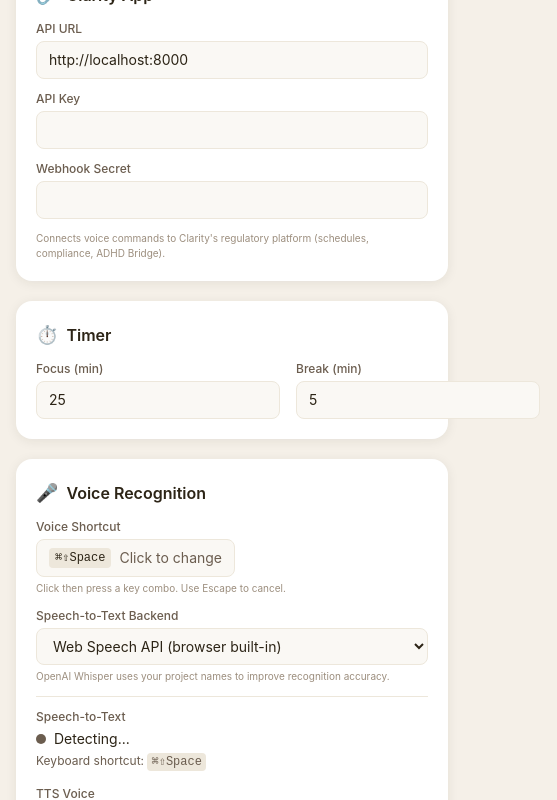
Test: SettingsPage › resets form on Reset button click
This screenshot has width=557, height=800.
(page scrolled)
Step 1. Replace the text in the number field labelled "Focus (min)" with "45" → (158, 400), box [36, 381, 280, 419]
(page scrolled)
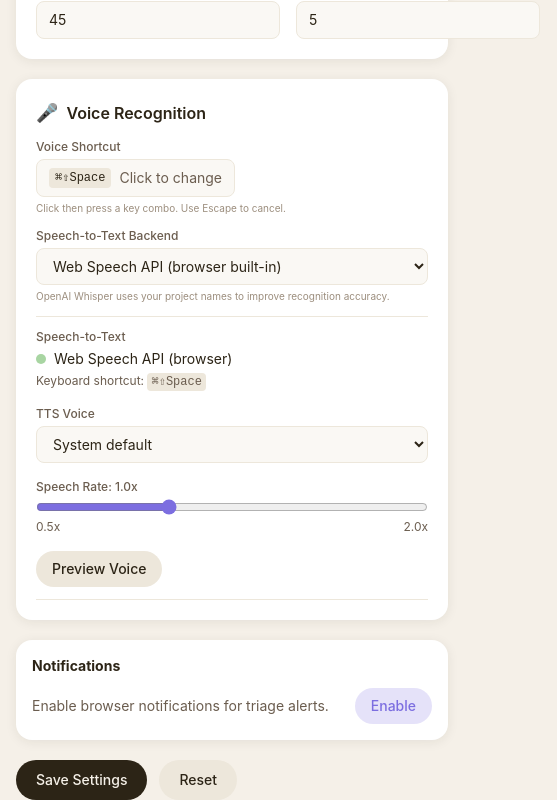
Step 2. Click the button "Reset" → click(198, 780), box [159, 760, 237, 799]
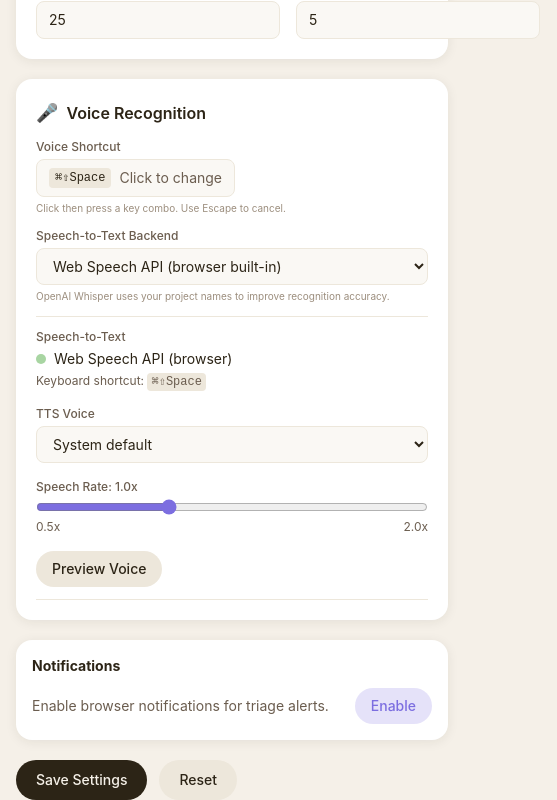
Now the number field labelled "Focus (min)" holds "25", box [36, 1, 280, 39]
